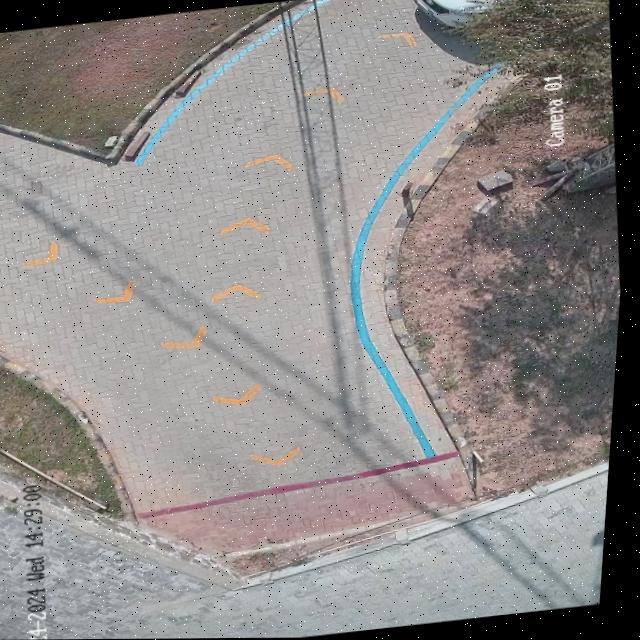car: (433, 0, 472, 9)
